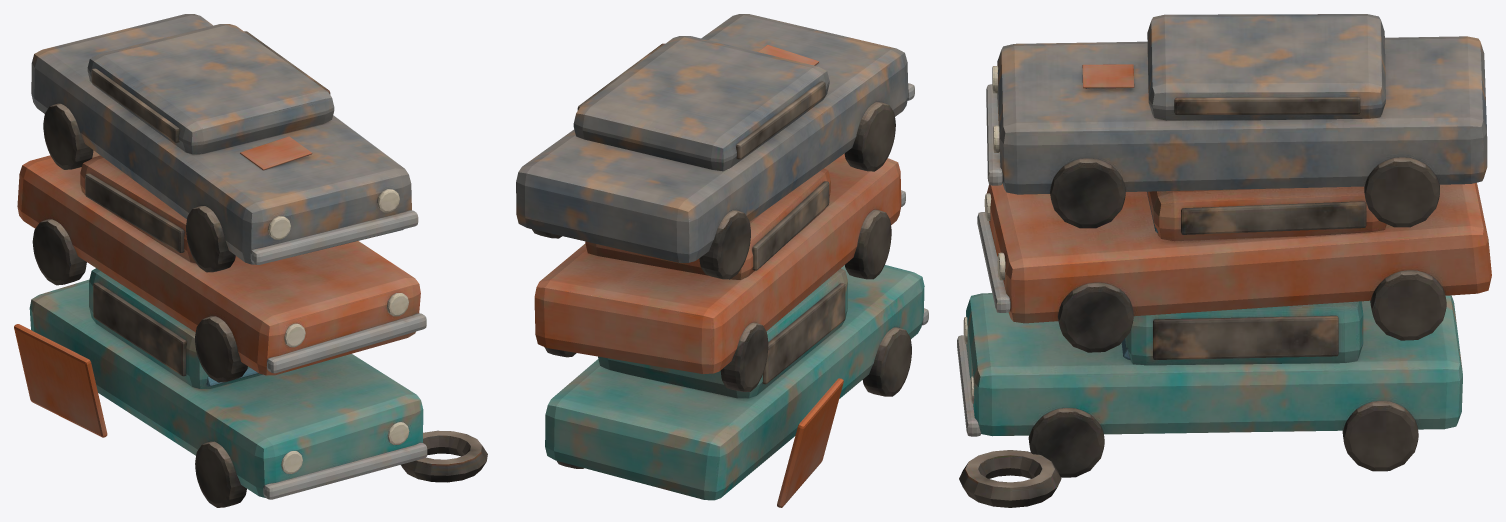
Rendered from car_stack_a.glb.
3 renders of one model, left to right at view 1: azimuth 30°, elevation 25°; view 2: azimuth 150°, elevation 25°; view 3: azimuth 270°, elevation 25°, orthographic. The views are drawn at different scales.
Parts seen in each view (by area): view 1: CarC_Mesh, CarA_Mesh, CarB_Mesh, CarStack_Mesh; view 2: CarC_Mesh, CarA_Mesh, CarB_Mesh, CarStack_Mesh; view 3: CarC_Mesh, CarA_Mesh, CarB_Mesh, CarStack_Mesh.
Boxes of the visible parts, left/top/right/bottom form: CarC_Mesh: left=31, top=14, right=418, bottom=272; CarA_Mesh: left=29, top=268, right=427, bottom=507; CarB_Mesh: left=17, top=150, right=426, bottom=382; CarStack_Mesh: left=14, top=324, right=487, bottom=482; CarC_Mesh: left=516, top=14, right=914, bottom=279; CarA_Mesh: left=545, top=265, right=928, bottom=500; CarB_Mesh: left=534, top=153, right=905, bottom=391; CarStack_Mesh: left=777, top=378, right=843, bottom=507; CarC_Mesh: left=986, top=14, right=1487, bottom=228; CarA_Mesh: left=957, top=293, right=1462, bottom=477; CarB_Mesh: left=977, top=182, right=1491, bottom=352; CarStack_Mesh: left=959, top=450, right=1061, bottom=507.
Bounding box in the file's own units: 3.05 × 3.28 × 4.17.
4 materials, 4 textured.
